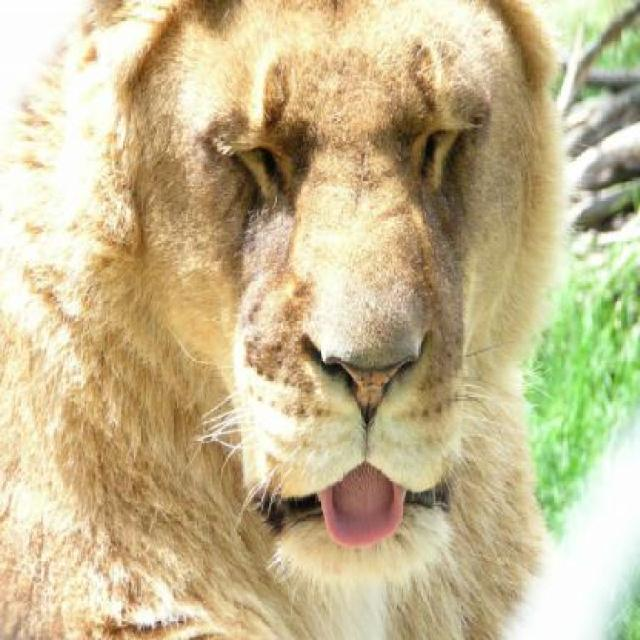Lion: (9, 9, 577, 638)
